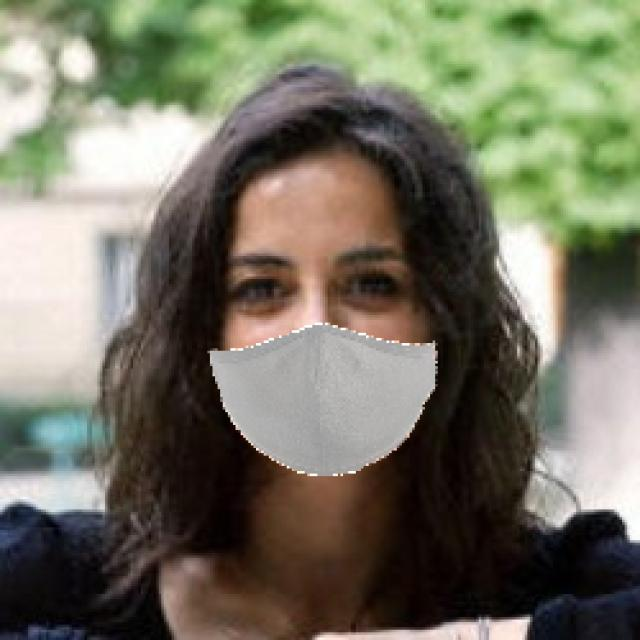mask: (177, 320, 452, 507)
